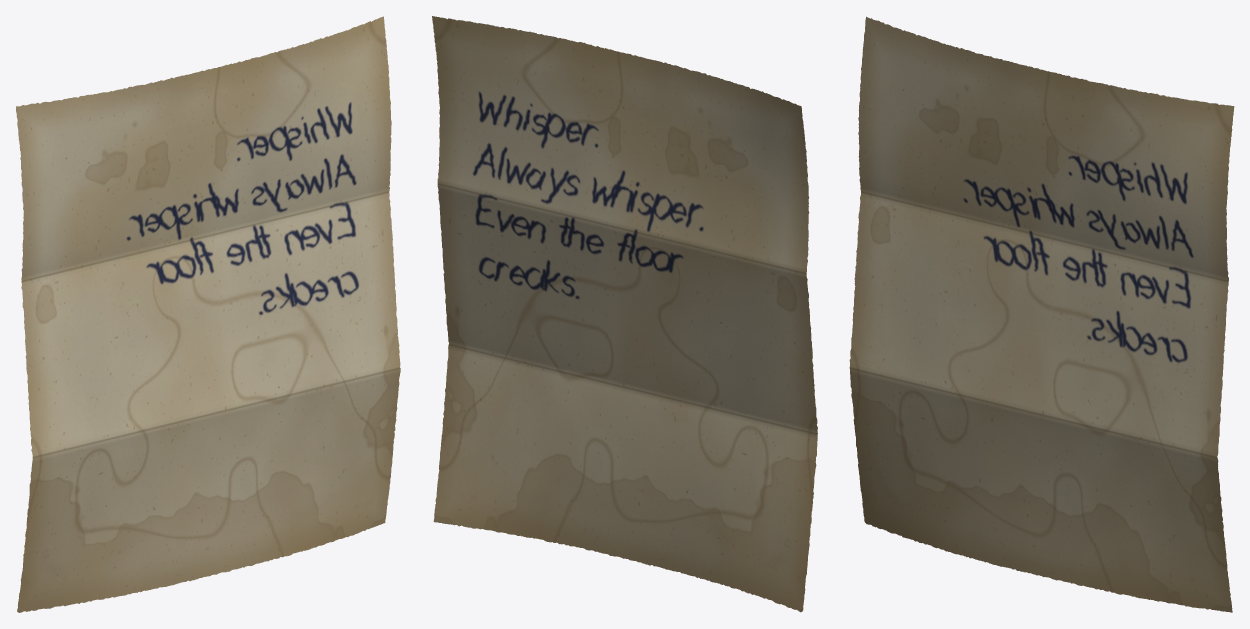
The model's file is note_whisper.glb.
3 renders of one model, left to right at view 1: azimuth 30°, elevation 25°; view 2: azimuth 150°, elevation 25°; view 3: azimuth 330°, elevation 25°, orthographic.
Visible parts, largest first — view 1: note_whisper; view 2: note_whisper; view 3: note_whisper.
Boxes of the visible parts, box(x1,y1,x2,y2) form: note_whisper: box(16, 16, 400, 612); note_whisper: box(432, 16, 817, 612); note_whisper: box(849, 16, 1234, 612).
Size of the model in its own units: 0.16 by 0.21 by 0.0127.
1 material, 1 textured.
